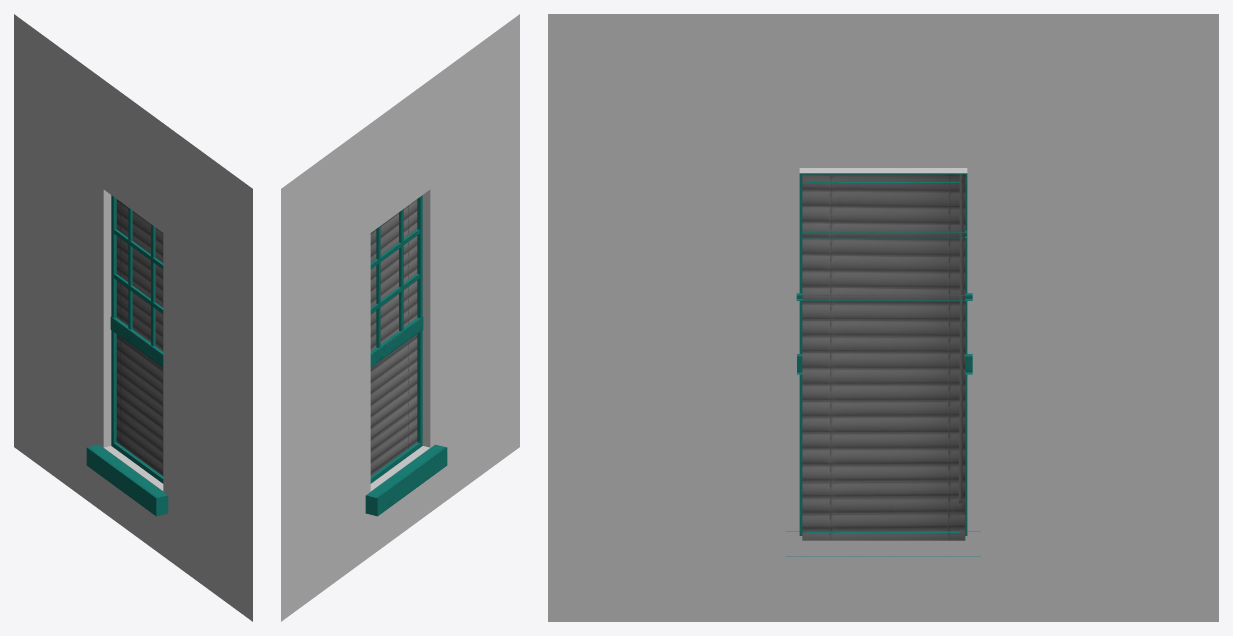
Rendered from MB_Wall_Window_D_01.fbx.
3 renders of one model, left to right at view 1: azimuth 30°, elevation 25°; view 2: azimuth 150°, elevation 25°; view 3: azimuth 270°, elevation 25°, orthographic. The views are drawn at different scales.
Parts seen in each view (by area): view 1: MB_Wall_Window_D_01; view 2: MB_Wall_Window_D_01; view 3: MB_Wall_Window_D_01.
Part boxes in pixels (<box>): MB_Wall_Window_D_01: <box>14,14,252,621</box>; MB_Wall_Window_D_01: <box>281,14,519,621</box>; MB_Wall_Window_D_01: <box>548,14,1218,621</box>.
Bounding box in the file's own units: 23.65 × 400 × 400.
